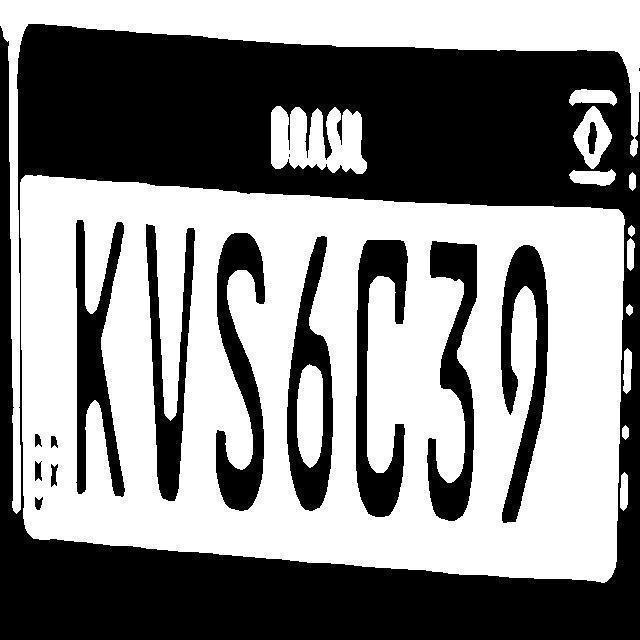3: (432, 220, 498, 526)
6: (289, 235, 345, 530)
9: (498, 232, 561, 547)
c: (351, 236, 426, 534)
k: (65, 222, 138, 518)
s: (216, 233, 286, 533)
v: (142, 227, 205, 513)
